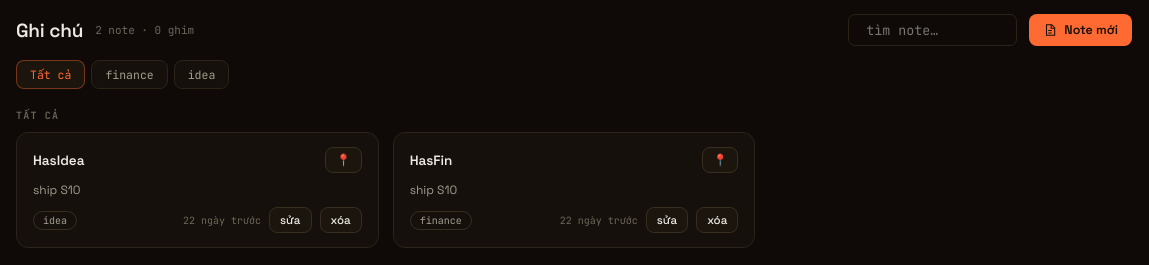
Test: S10 Notes — render + filter › tag filter shows only notes with the tag
Click the button with test id "tagfilter-finance" at {"x": 130, "y": 74}, box top-left (91, 60), bottom-right (168, 89)
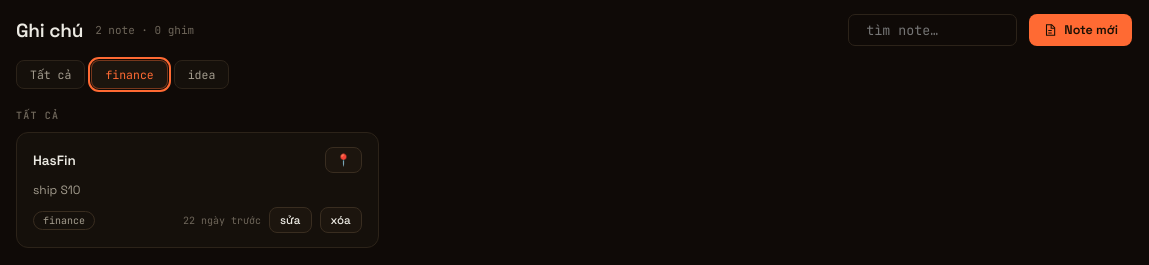
expect the text "HasFin" is shown: met, box top-left (33, 152), bottom-right (76, 168)
expect the text "HasIdea" is gone: met
